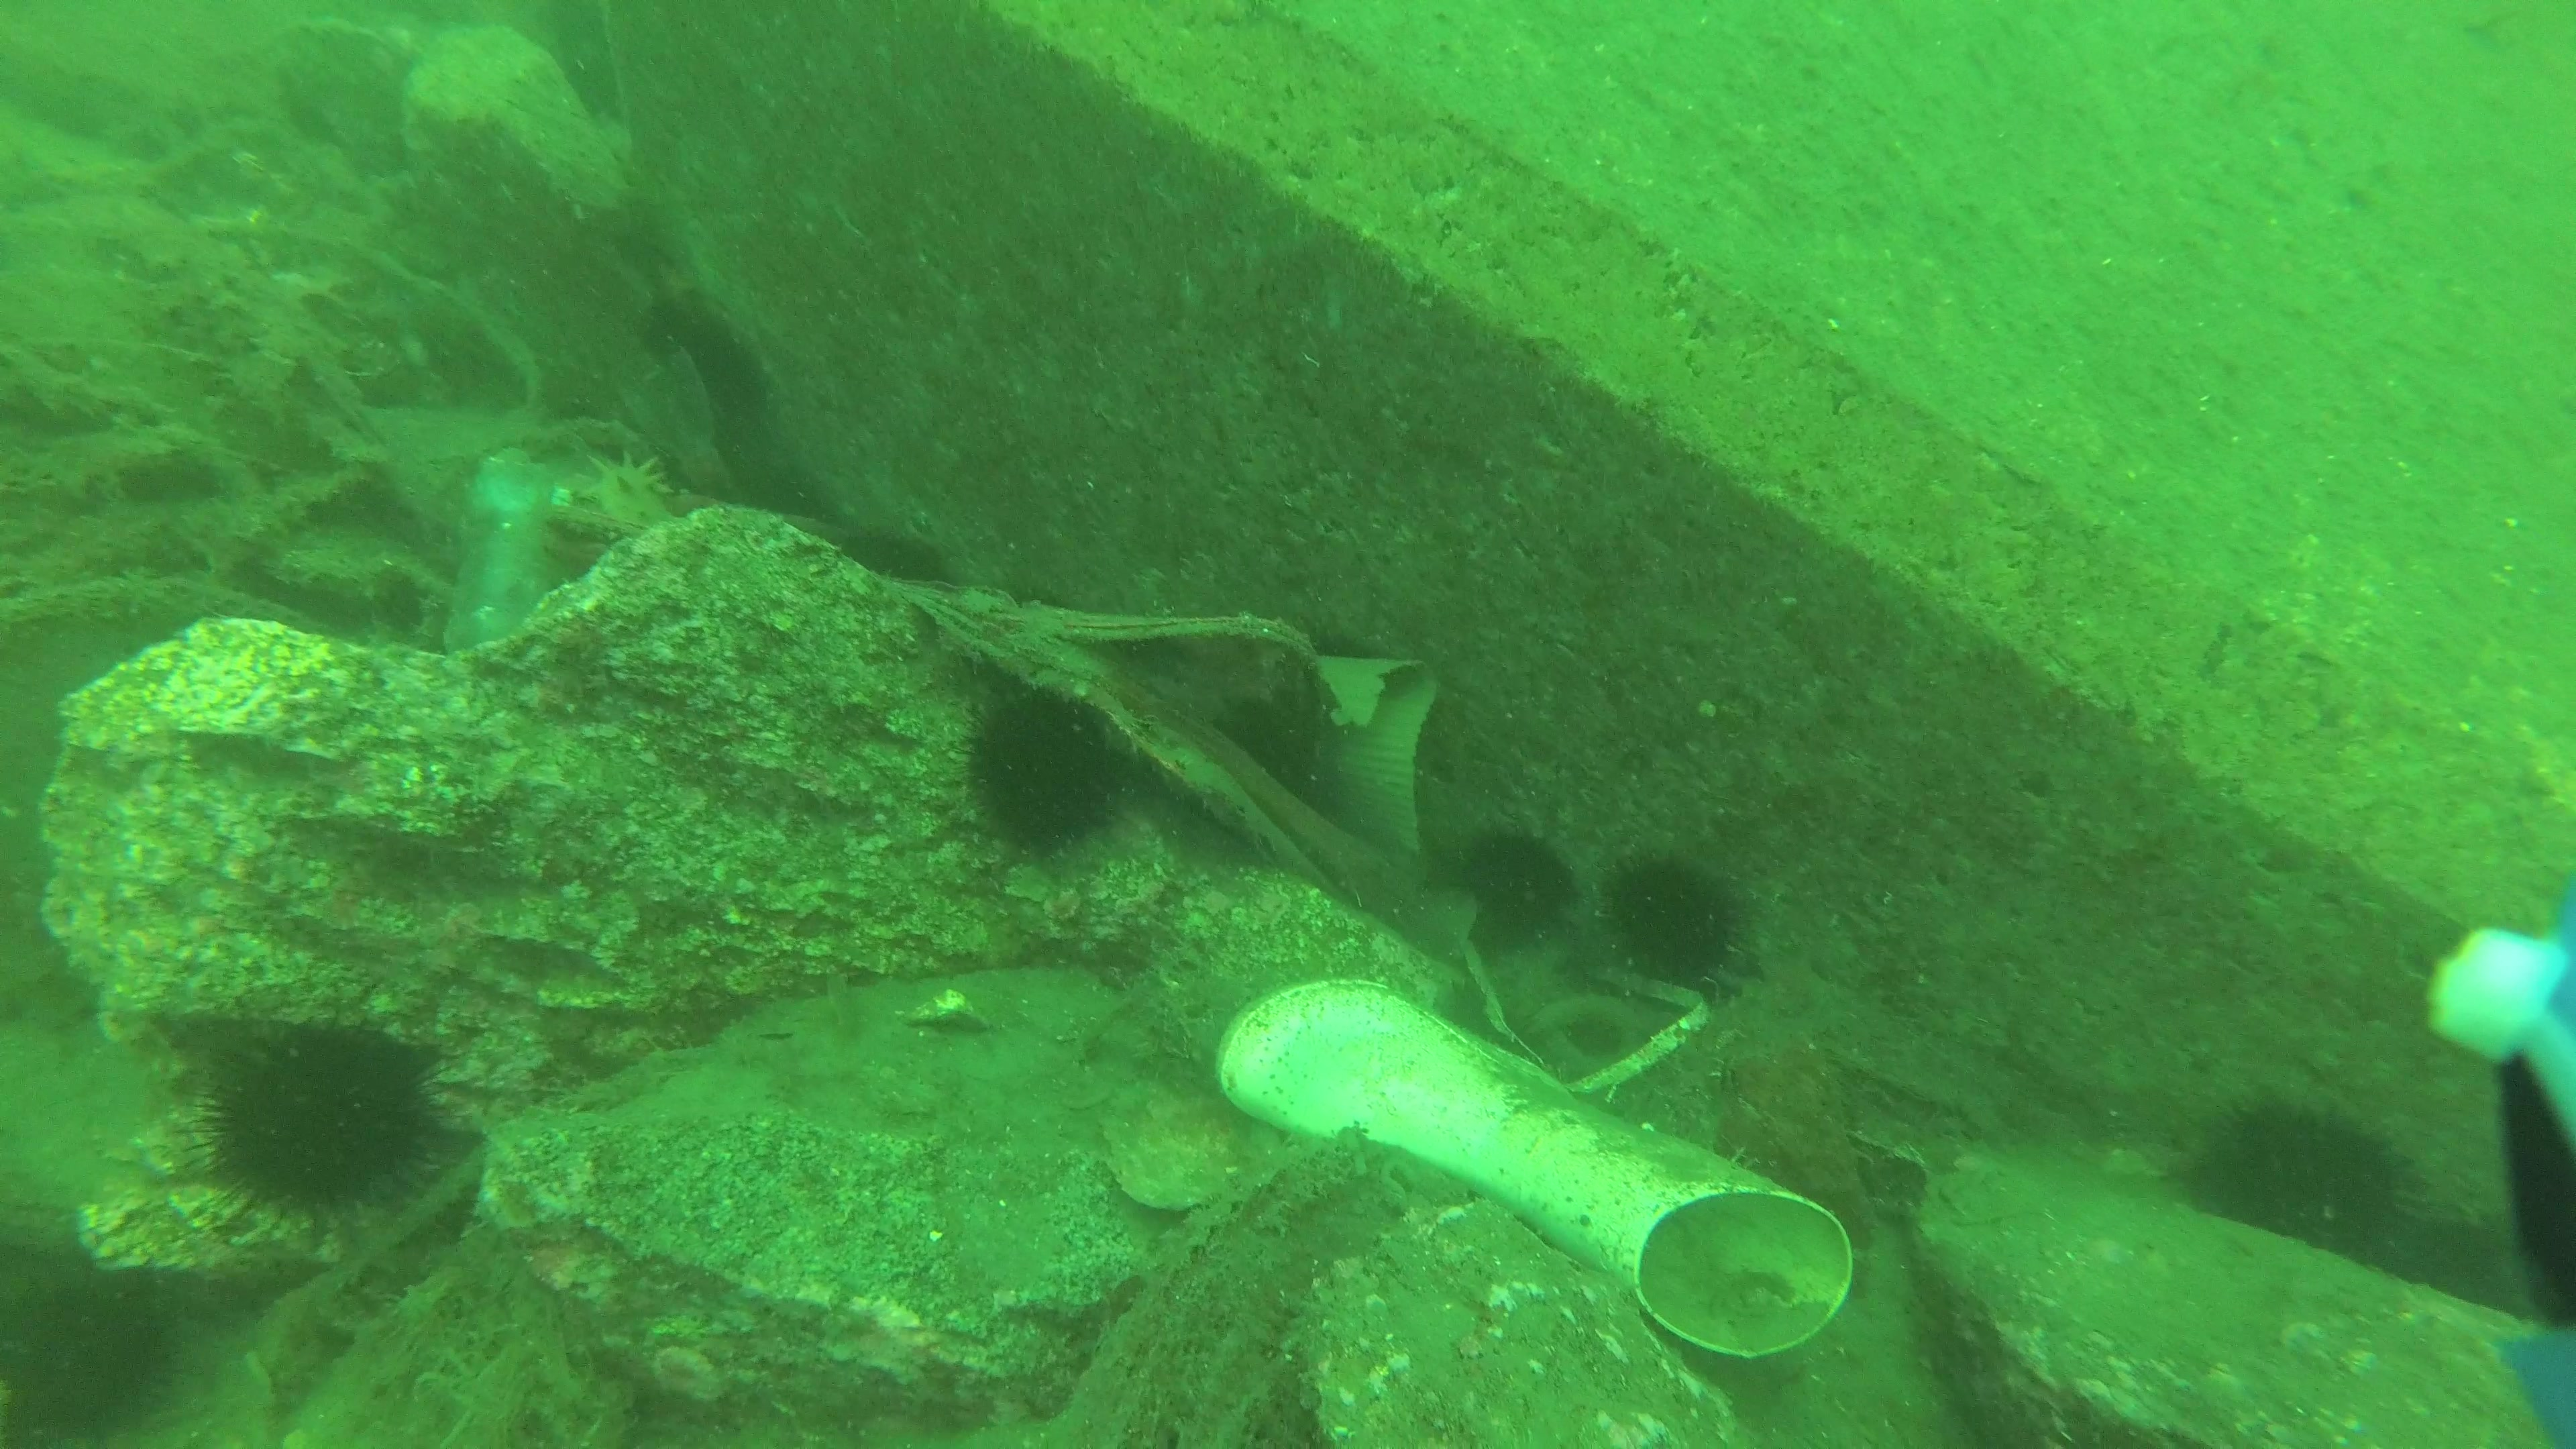echinus: (170, 1005, 469, 1235), (2181, 1086, 2429, 1258), (2, 1269, 177, 1449), (950, 678, 1118, 856), (633, 290, 777, 444), (1599, 846, 1750, 987), (1454, 821, 1583, 957), (2390, 1210, 2534, 1325), (1214, 695, 1318, 810), (839, 529, 945, 582)
holothurian: (575, 448, 676, 533)
